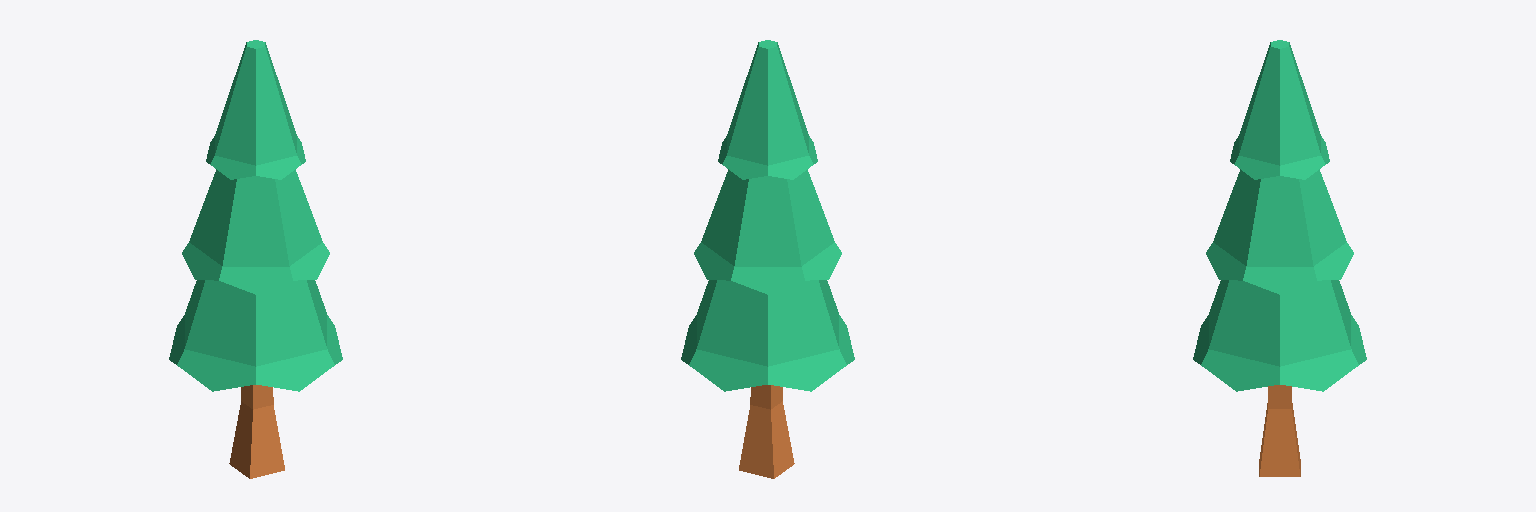
Rendered from tree.obj.
3 views of the same model, side by side, from view 1: azimuth 30°, elevation 25°; view 2: azimuth 150°, elevation 25°; view 3: azimuth 270°, elevation 25° (orthographic).
Parts seen in each view (by area): view 1: tree; view 2: tree; view 3: tree.
Boxes of the visible parts, x1=… form: tree: x1=169, y1=40, x2=342, y2=478; tree: x1=681, y1=40, x2=854, y2=478; tree: x1=1193, y1=40, x2=1366, y2=476.
Bounding box in the file's own units: 0.5529 × 1.41 × 0.5262.